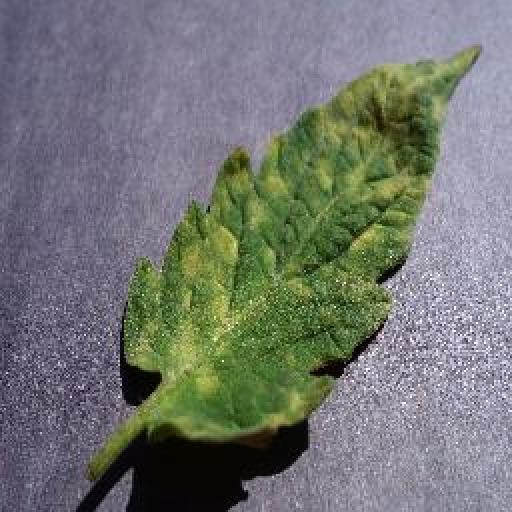disease_tomato: (124, 46, 480, 448)
